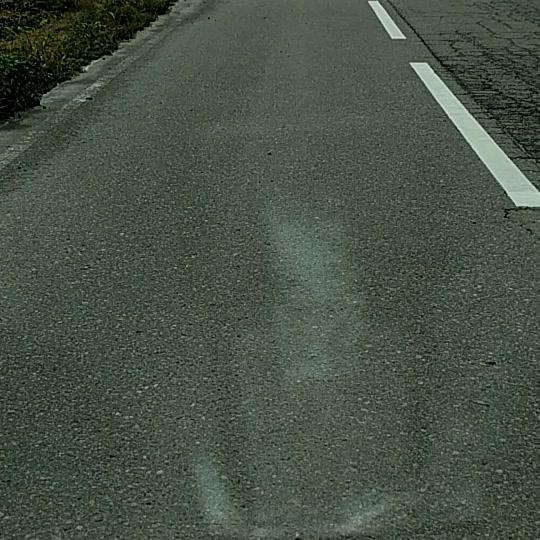D20: (442, 0, 539, 160)
